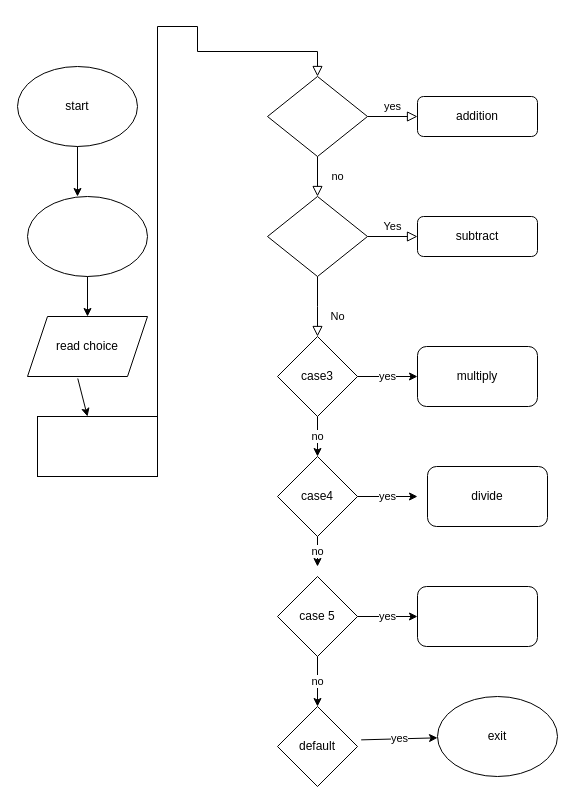
This 575x804 diagram has some shape labels left out. The centre of each missing label's shape, as x and y in pixels:
"case1" goes at point (317, 116).
"case2" goes at point (317, 236).
"display option" goes at point (87, 236).
"sqr" goes at point (477, 616).
"switch(choice)" goes at point (97, 446).
